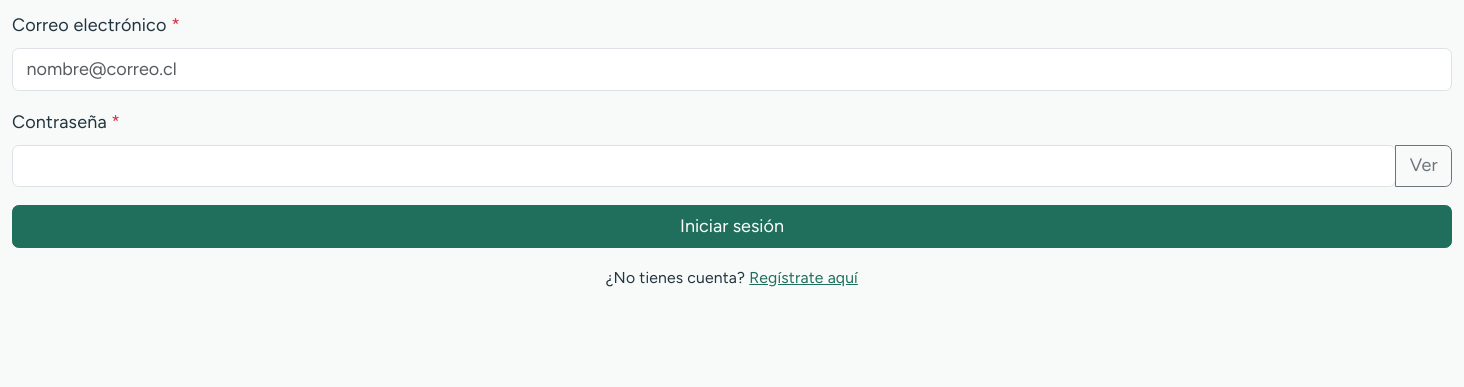
Test: LoginForm › muestra un mensaje en pantalla si las credenciales son incorrectas
The width and height of the screenshot is (1464, 387).
Type "admin@clinica.cl" into the field labelled "Correo electrónico*" at (732, 69), box [12,48,1452,90]
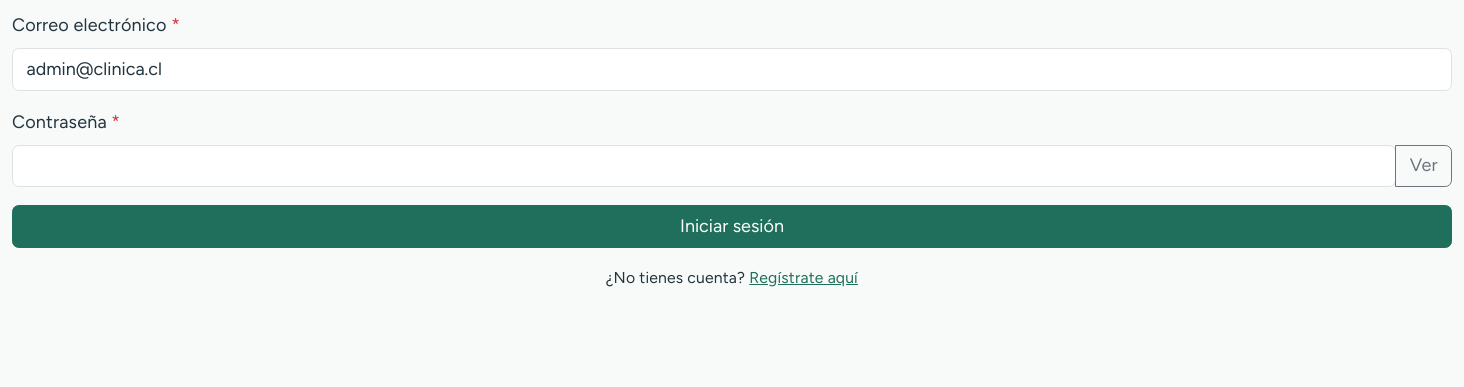
Type "otraClave1" into the password field labelled "Contraseña*" at (704, 166), box [12,144,1396,187]
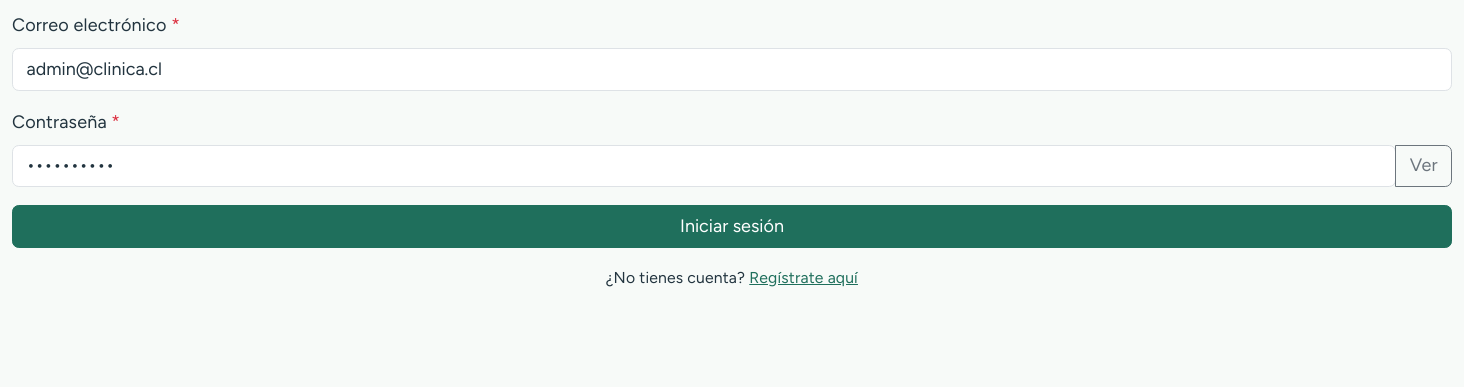
Click the button "Iniciar sesión" at (732, 226), box [12,205,1452,248]
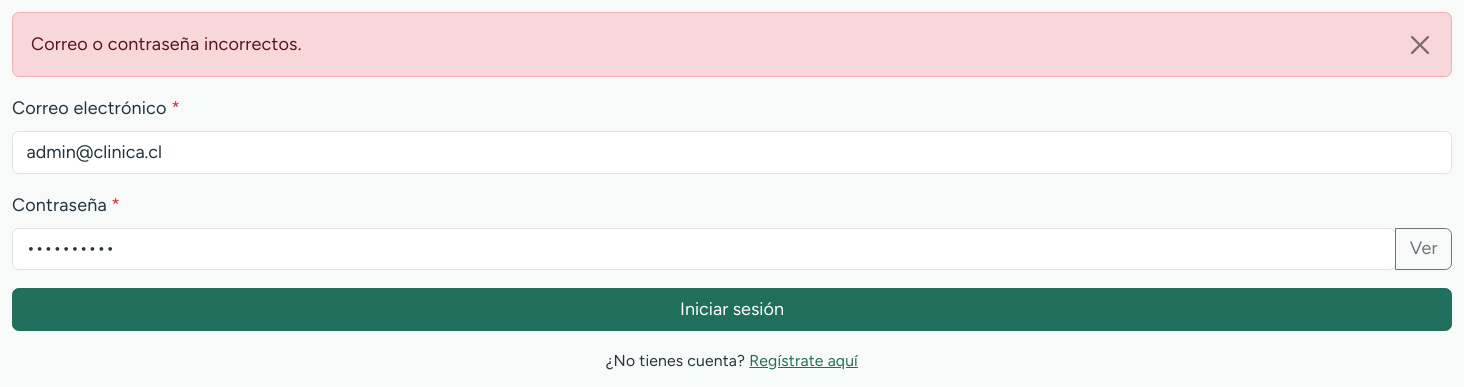
Now the message reads "Correo o contraseña incorrectos.", box [31,33,302,55]
